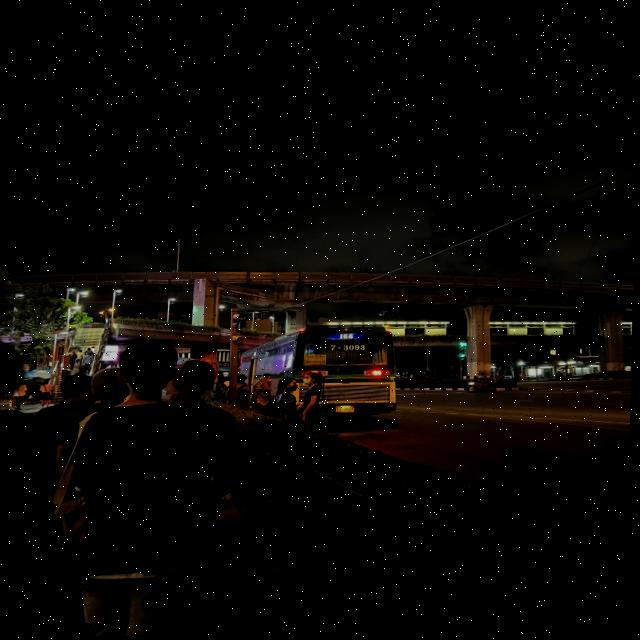BMTA-bus: (239, 324, 403, 425)
Bus-Line-Number: (339, 335, 357, 342)
Destination-Sign-Normal-Expressway: (305, 356, 328, 367)
